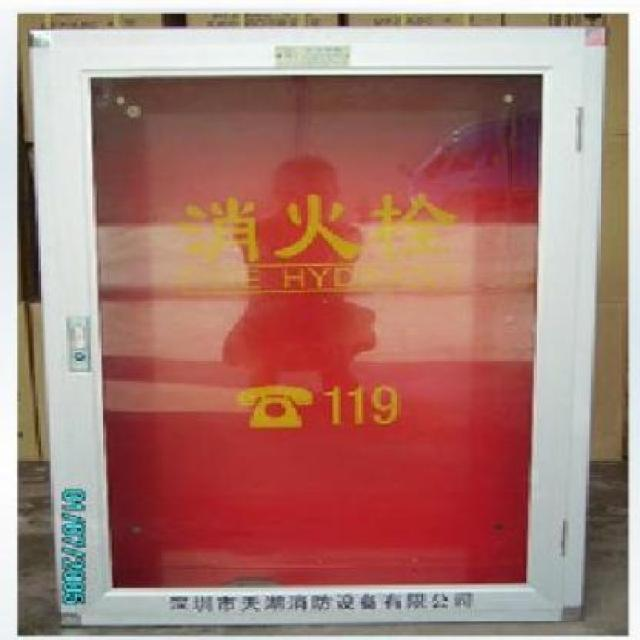firehydrant: (23, 20, 612, 638)
